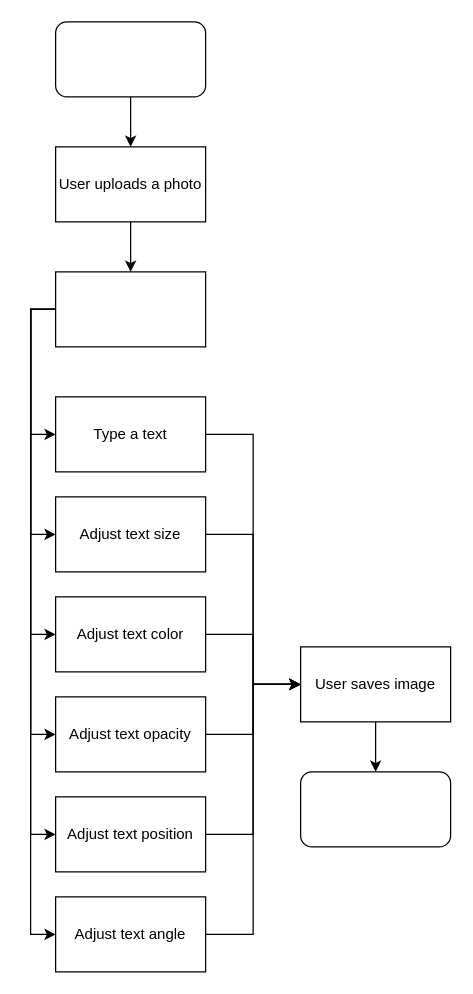
The diagram is 473 pixels wide and 994 high, and some of its shapes have lost their labels. The box of each missing label's shape, as (x1, y1, x2, y2) in pixels:
End: (299, 771, 451, 847)
Start: (54, 21, 206, 97)
User can do the following:: (54, 271, 206, 347)
